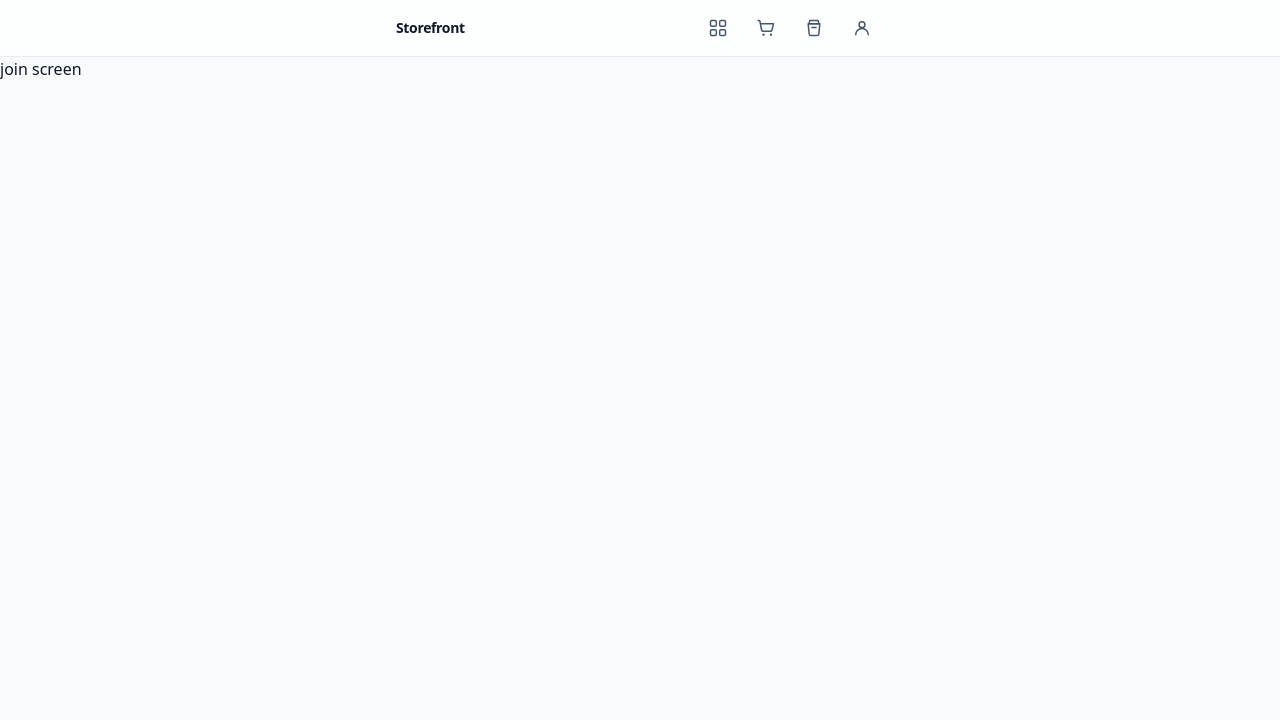
Test: LayoutShell › closes the open sheet without affecting the routed content underneath
What coordinates should you click on to do the following:
click the button named "Cart"
I would click on:
 (766, 28)
Its box is [744,6,788,50].
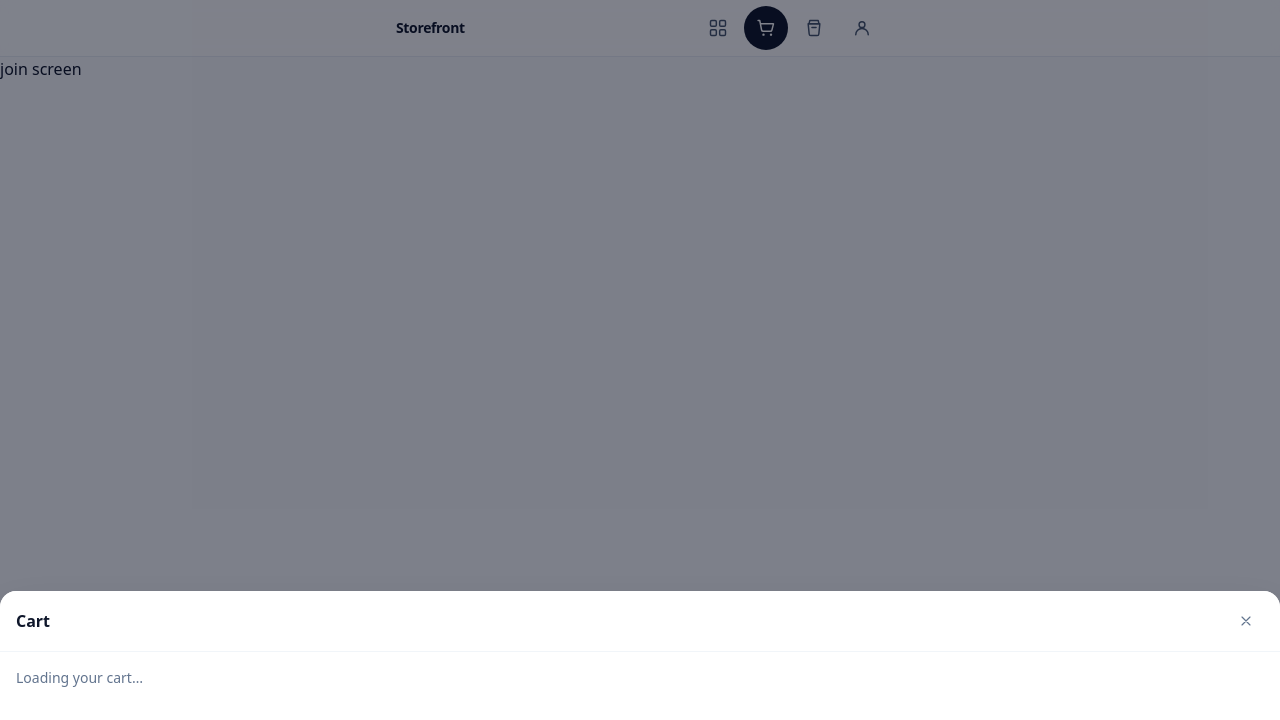
What coordinates should you click on to do the following:
click the 2nd button named "Close"
I would click on:
 (1246, 621)
Its box is [1228,603,1264,639].
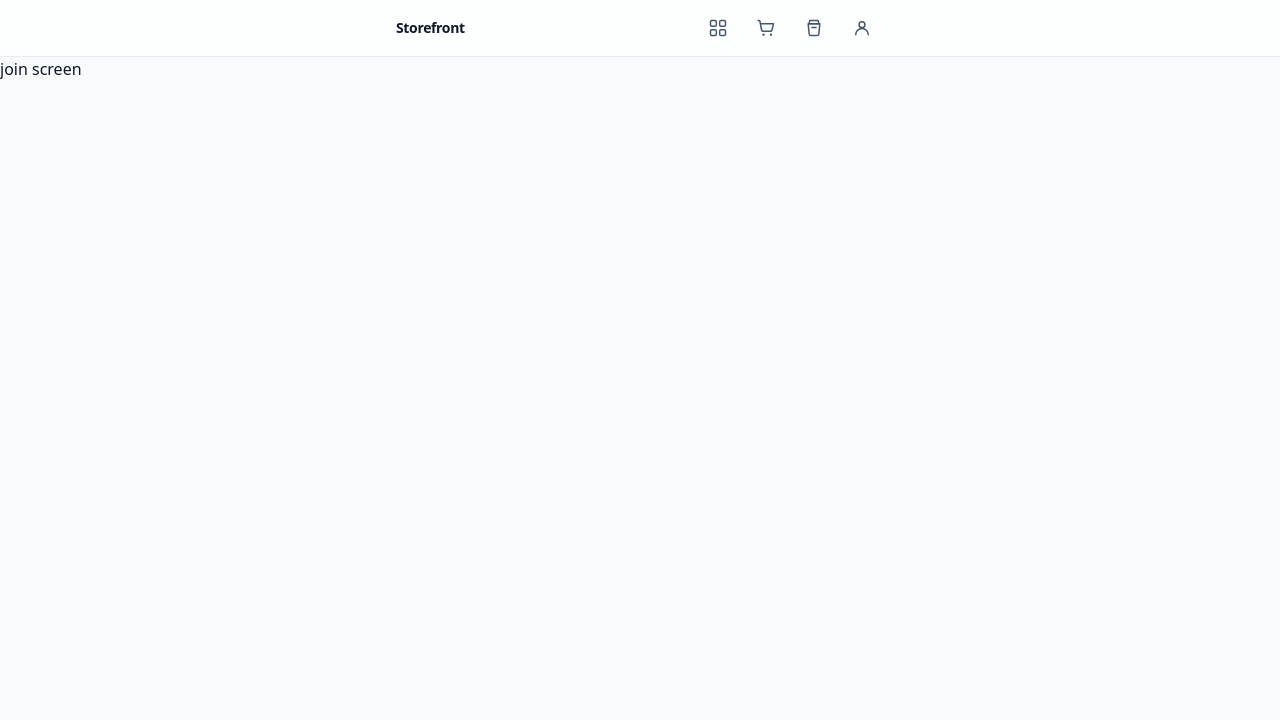
expect the text "join screen" is shown: met, box [0,58,82,80]
expect the dialog is gone: met
